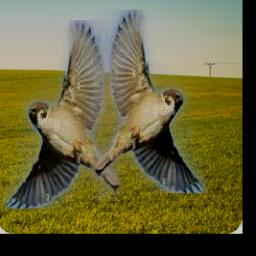Sparrow: (4, 21, 122, 210), (93, 10, 207, 193)
